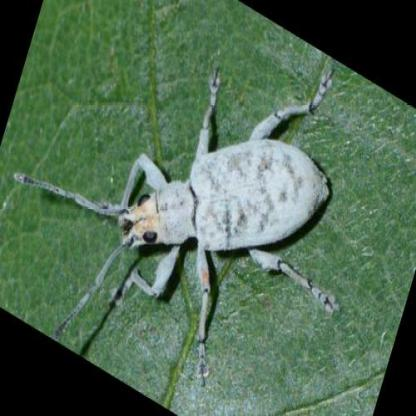ash weevil: (12, 64, 339, 379)
